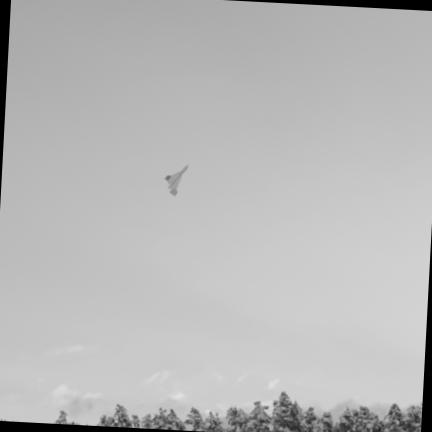Shahed: (166, 165, 188, 195)
